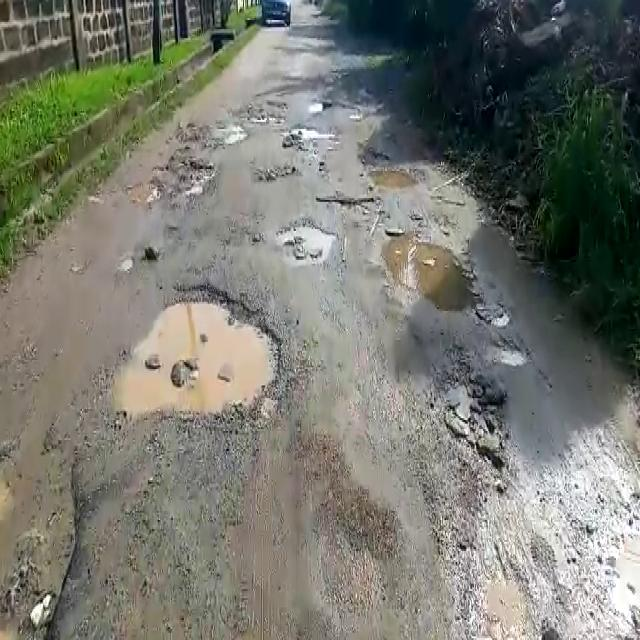Pothole: (112, 283, 295, 428), (0, 426, 91, 636), (382, 232, 482, 318), (128, 148, 219, 208), (278, 219, 336, 267), (365, 166, 421, 193), (313, 193, 384, 212), (280, 126, 341, 148)
